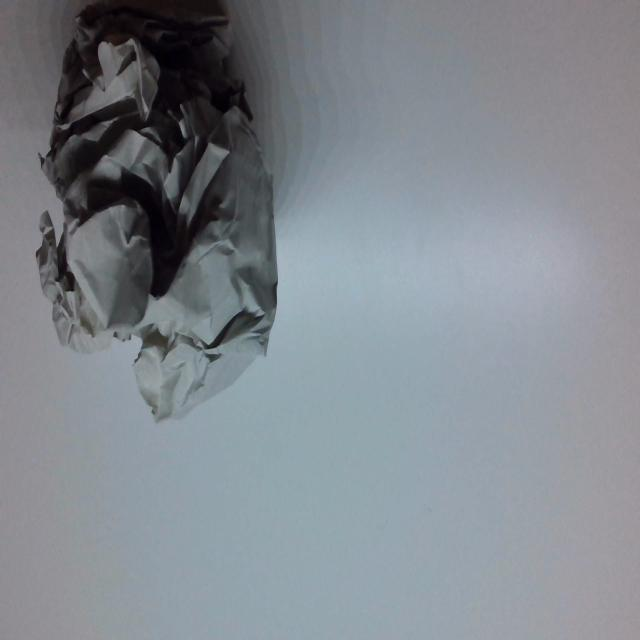Paper: (41, 4, 274, 421)
